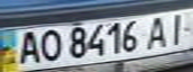1: (103, 19, 124, 55)
4: (84, 21, 109, 56)
6: (121, 17, 145, 53)
8: (66, 24, 90, 58)
A: (142, 12, 175, 50), (12, 29, 42, 65)
I: (163, 10, 193, 46)
O: (33, 27, 63, 62)
